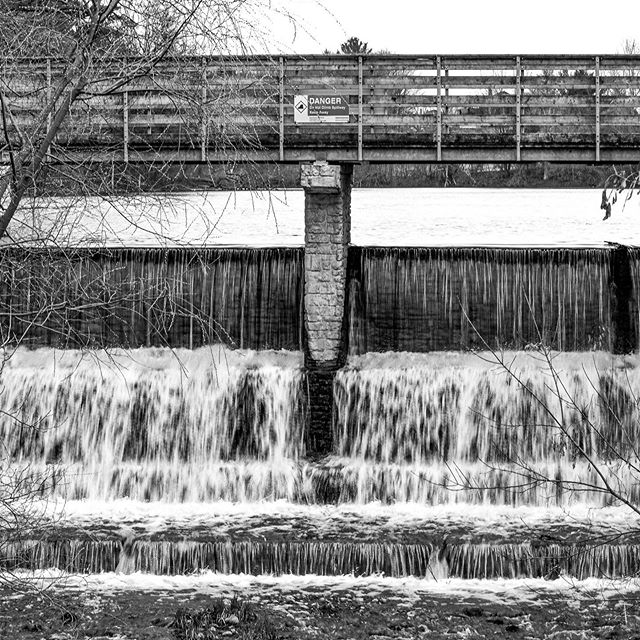bridge: (5, 12, 640, 222)
tree: (1, 1, 292, 240)
waterfall: (3, 243, 640, 618)
